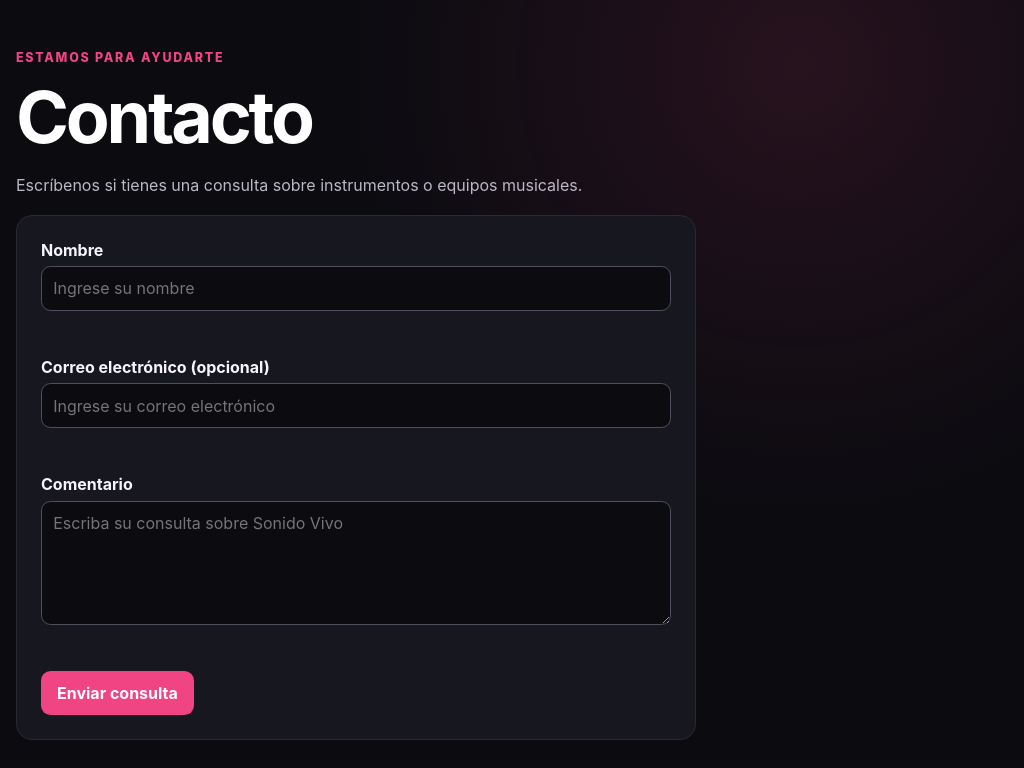
ContactoPage › permite enviar la consulta sin correo
Type "Diego" into the field labelled "Nombre".
click(356, 288); type("Diego")  # box x1=41 y1=266 x2=671 y2=311
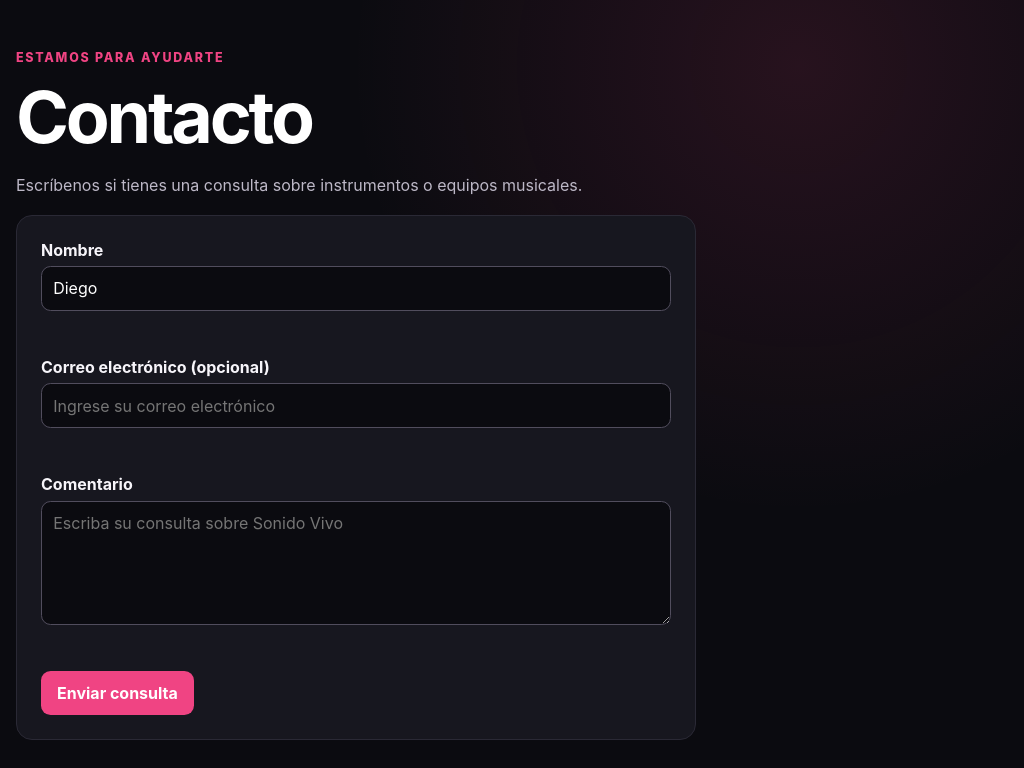
Type "Consulta de demostración" into the text box labelled "Comentario".
click(356, 563); type("Consulta de demostración")  # box x1=41 y1=500 x2=671 y2=625
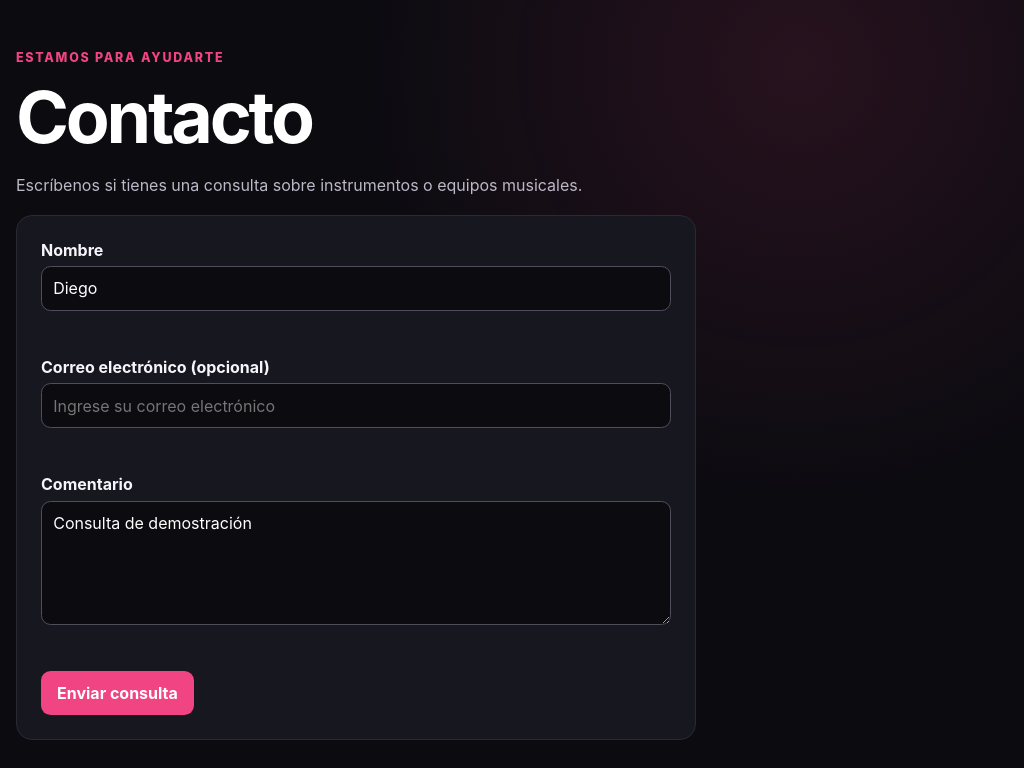
Click the button "Enviar consulta".
click(117, 693)  # box x1=41 y1=671 x2=194 y2=715
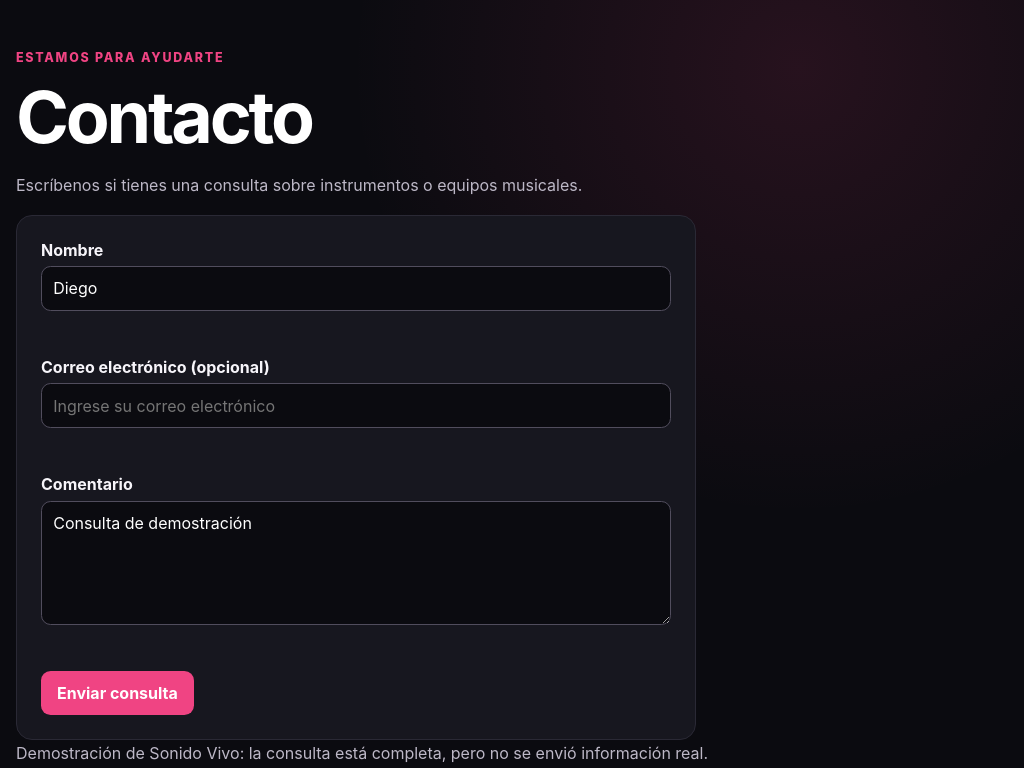
Expected: the text "Demostración de Sonido Vivo: la consulta está completa, pero no se envió información real." is shown, x1=16 y1=743 x2=708 y2=763
